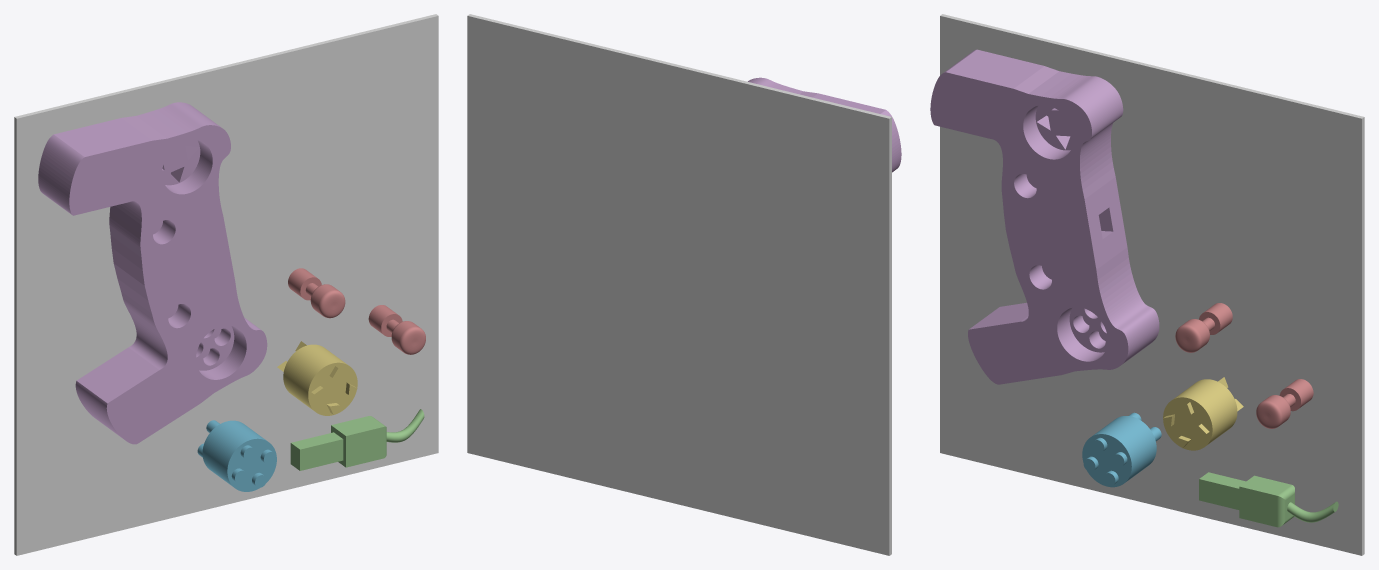
Rendered from pickup_layout.glb.
3 renders of one model, left to right at view 1: azimuth 30°, elevation 25°; view 2: azimuth 150°, elevation 25°; view 3: azimuth 330°, elevation 25°, orthographic.
Parts seen in each view (by area): view 1: world, 3.obj, 4.obj, 2.obj, 1.obj, 0.obj, 5.obj; view 2: world, 3.obj; view 3: world, 3.obj, 4.obj, 2.obj, 1.obj, 5.obj, 0.obj.
Part boxes in pixels (left/top/right/bottom): world: left=14, top=14, right=438, bottom=555; 3.obj: left=38, top=102, right=267, bottom=444; 4.obj: left=290, top=409, right=424, bottom=470; 2.obj: left=197, top=420, right=276, bottom=491; 1.obj: left=277, top=341, right=357, bottom=415; 0.obj: left=288, top=268, right=345, bottom=318; 5.obj: left=368, top=305, right=425, bottom=354; world: left=467, top=14, right=891, bottom=555; 3.obj: left=748, top=77, right=901, bottom=172; world: left=940, top=14, right=1364, bottom=555; 3.obj: left=930, top=49, right=1159, bottom=384; 4.obj: left=1199, top=472, right=1338, bottom=527; 2.obj: left=1082, top=412, right=1161, bottom=487; 1.obj: left=1163, top=377, right=1243, bottom=450; 5.obj: left=1256, top=379, right=1313, bottom=428; 0.obj: left=1175, top=303, right=1232, bottom=352.
Size of the model in its own units: 19.59 by 19.4 by 3.2.
